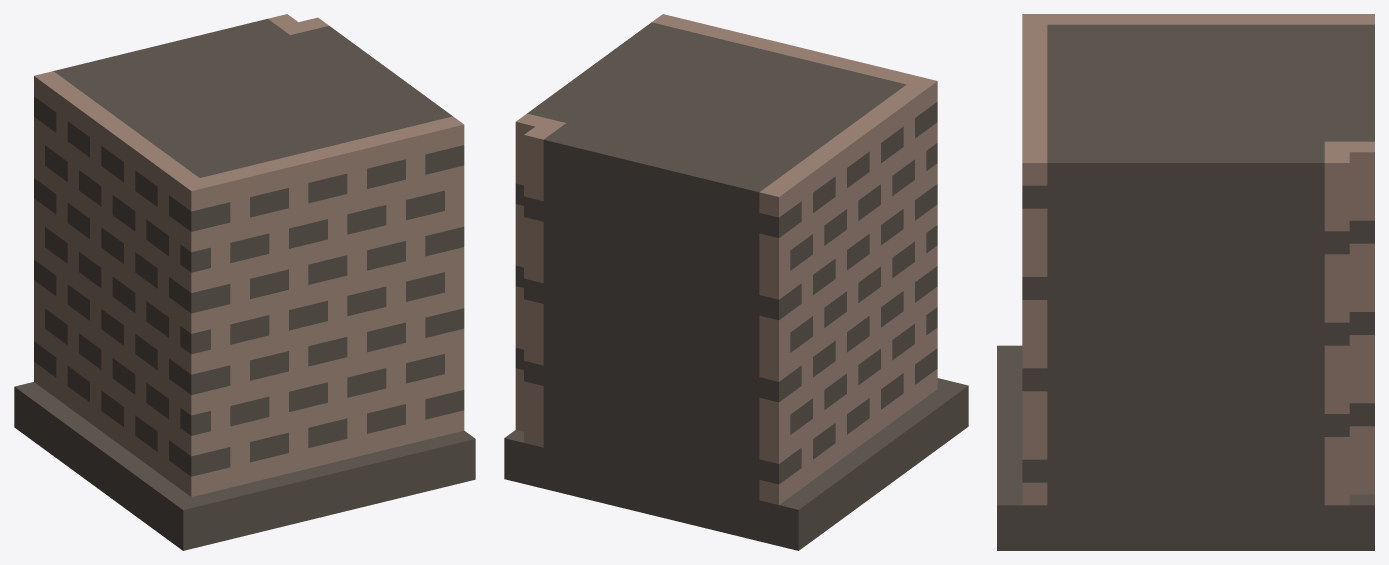
Rendered from dungeon_a_b_inner_wall_corner_b.obj.
3 views of the same model, side by side, from view 1: azimuth 30°, elevation 25°; view 2: azimuth 150°, elevation 25°; view 3: azimuth 270°, elevation 25° (orthographic). The views are drawn at different scales.
Bounding box in the file's own units: 1.5 × 1.7 × 1.5.
1 material, 1 textured.
